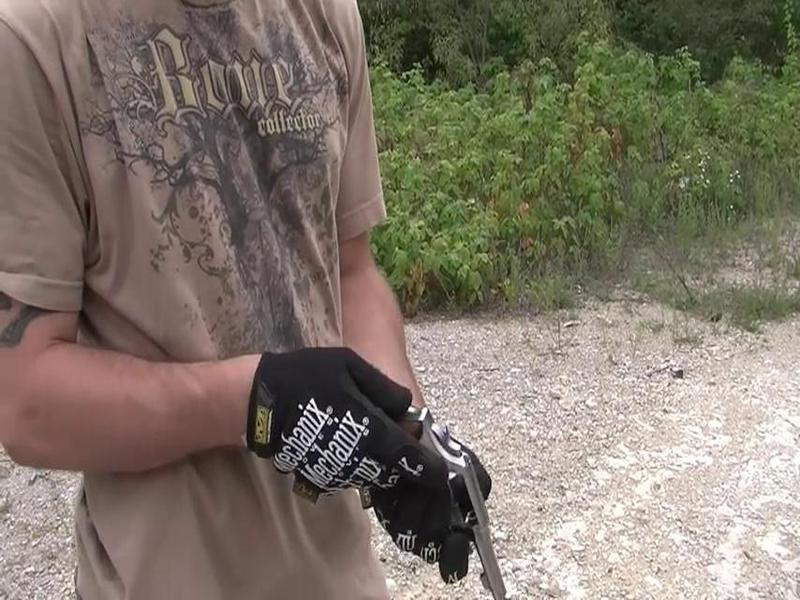Revolver: (407, 395, 529, 600)
